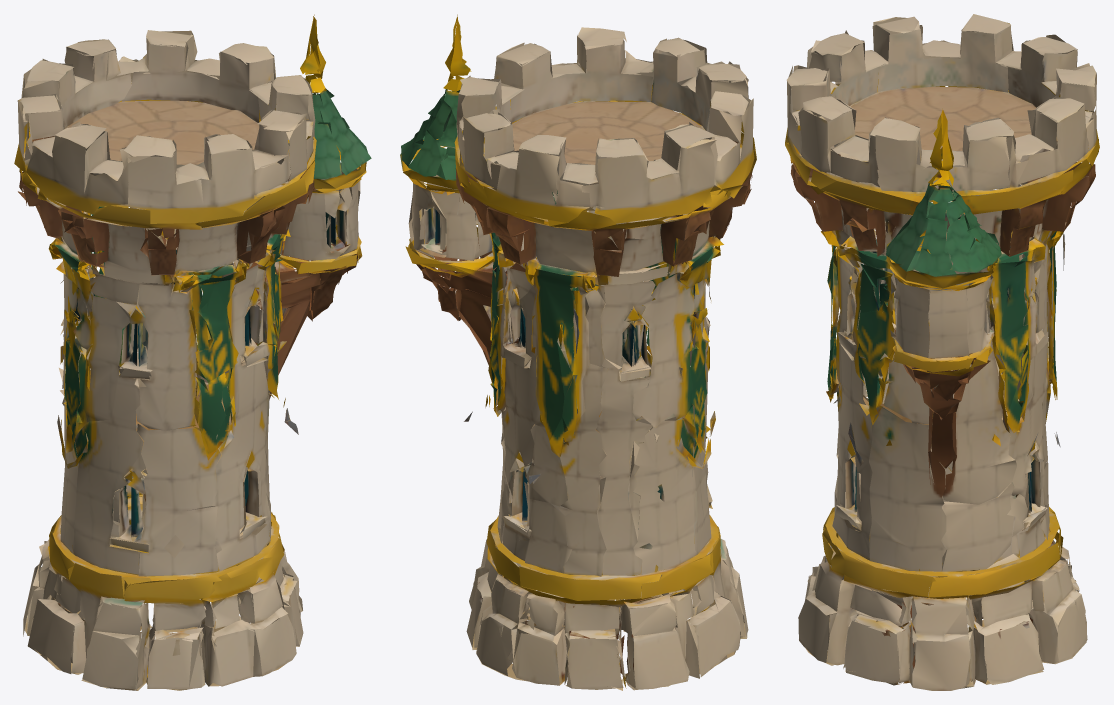
File: archer_3.glb
3 views of the same model, side by side, from view 1: azimuth 30°, elevation 25°; view 2: azimuth 150°, elevation 25°; view 3: azimuth 270°, elevation 25° (orthographic). The views are drawn at different scales.
Parts seen in each view (by area): view 1: Body; view 2: Body; view 3: Body.
Boxes of the visible parts, x1,y1,x2,y2 form: Body: [14, 14, 371, 690]; Body: [400, 14, 756, 690]; Body: [785, 14, 1099, 690].
Bounding box in the file's own units: 2.98 × 5.13 × 2.44.
Materials: 1 (1 with a texture image).
